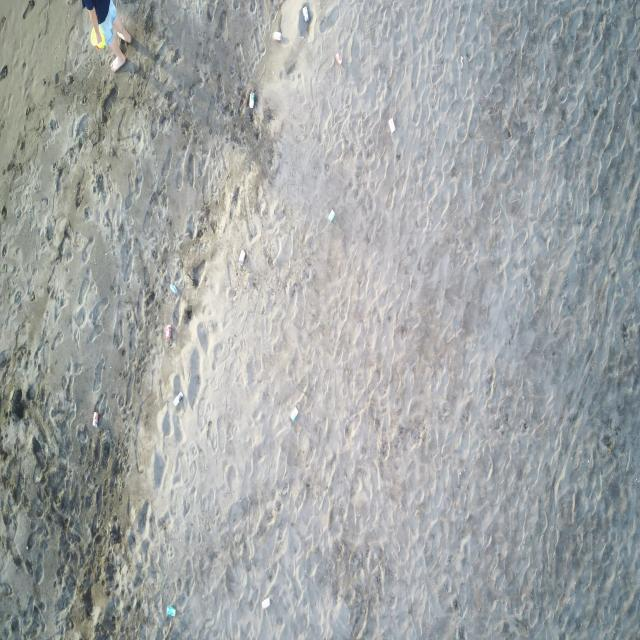Garbage: (11, 388, 24, 419), (89, 27, 105, 48), (163, 325, 172, 343), (172, 392, 183, 406), (289, 406, 298, 422), (168, 283, 179, 295), (91, 412, 99, 427), (248, 91, 255, 108), (166, 605, 175, 616), (388, 118, 395, 132), (327, 208, 335, 220), (335, 51, 342, 64), (302, 4, 307, 22), (239, 249, 244, 264), (272, 31, 280, 40), (261, 597, 268, 607), (460, 55, 463, 68)
